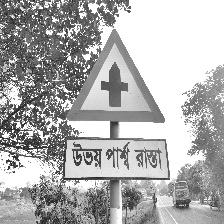Crossroad: (62, 32, 169, 179)
